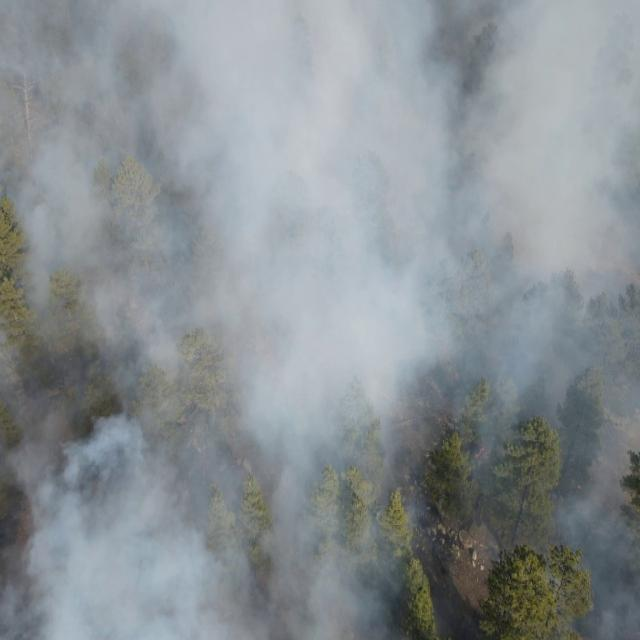fire: (473, 442, 490, 466)
smoke: (1, 0, 640, 640)
